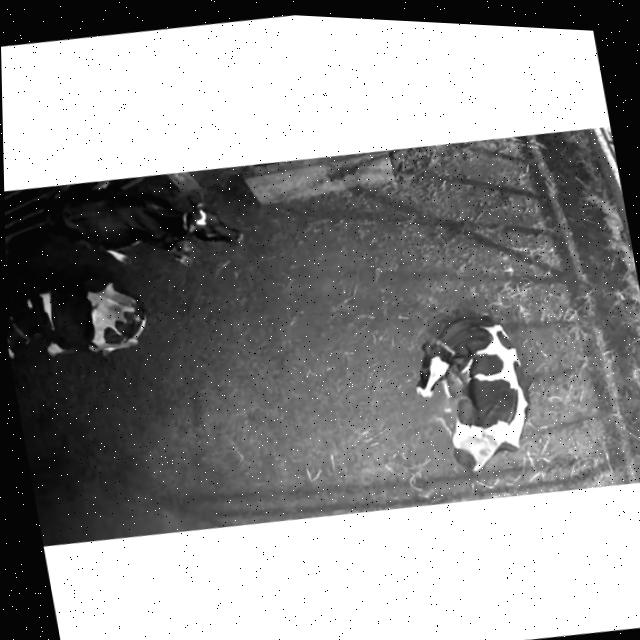lay: (391, 272, 554, 492), (6, 266, 158, 379)
